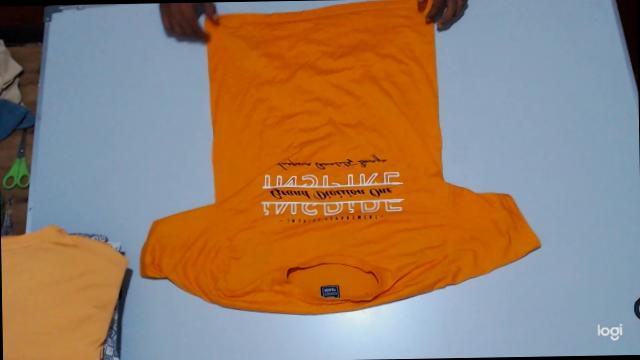new-garment: (140, 0, 540, 313)
